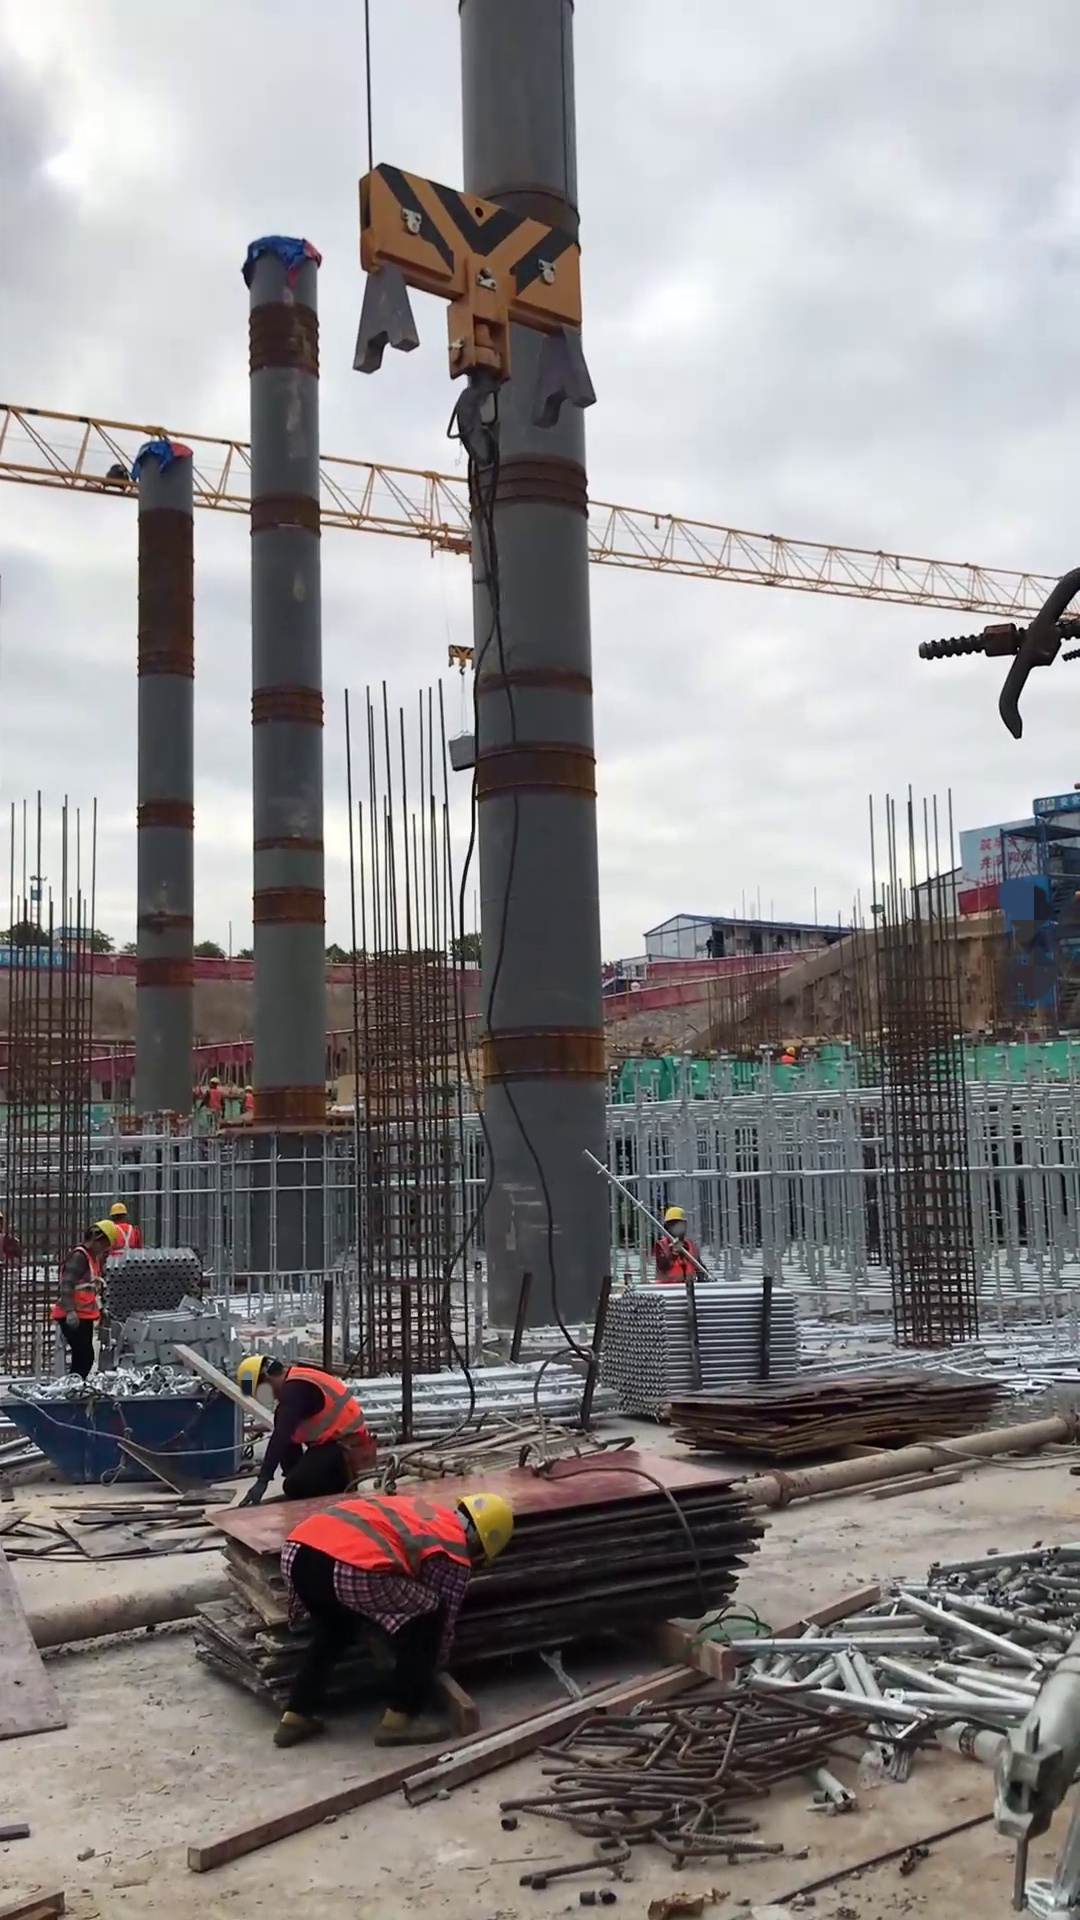helmet: (454, 1490, 514, 1563), (236, 1352, 267, 1402), (94, 1218, 119, 1254), (660, 1204, 688, 1225), (109, 1201, 128, 1216), (786, 1044, 796, 1057), (209, 1076, 219, 1086), (242, 1083, 252, 1094)
person: (270, 1490, 513, 1751), (235, 1354, 380, 1508), (48, 1217, 122, 1384), (654, 1203, 717, 1284), (109, 1199, 143, 1253), (196, 1075, 227, 1122), (238, 1082, 255, 1114)
vest: (283, 1492, 472, 1575), (275, 1363, 378, 1472), (49, 1246, 103, 1324), (654, 1234, 701, 1284), (109, 1220, 140, 1255), (205, 1085, 223, 1110), (242, 1094, 256, 1110)
